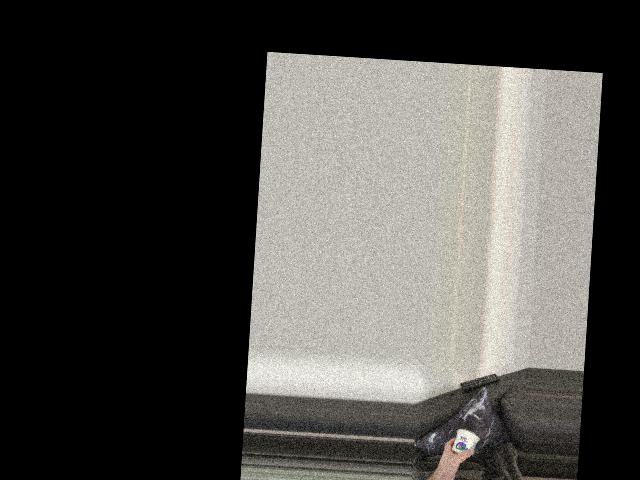cotage: (448, 424, 481, 461)
